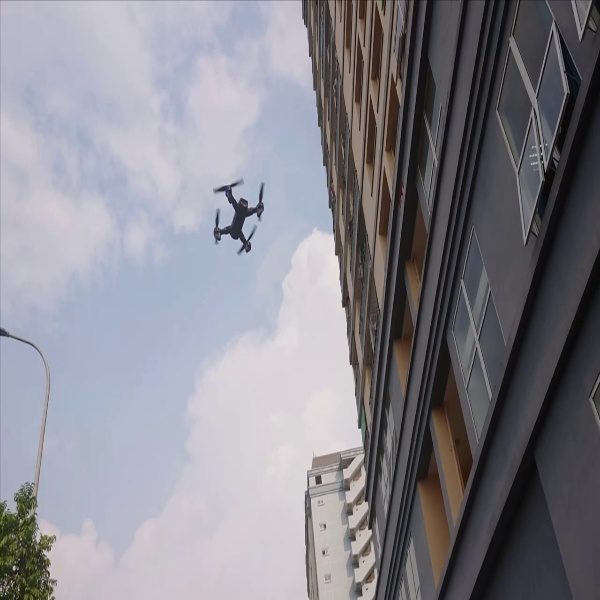drone: (200, 176, 275, 258)
